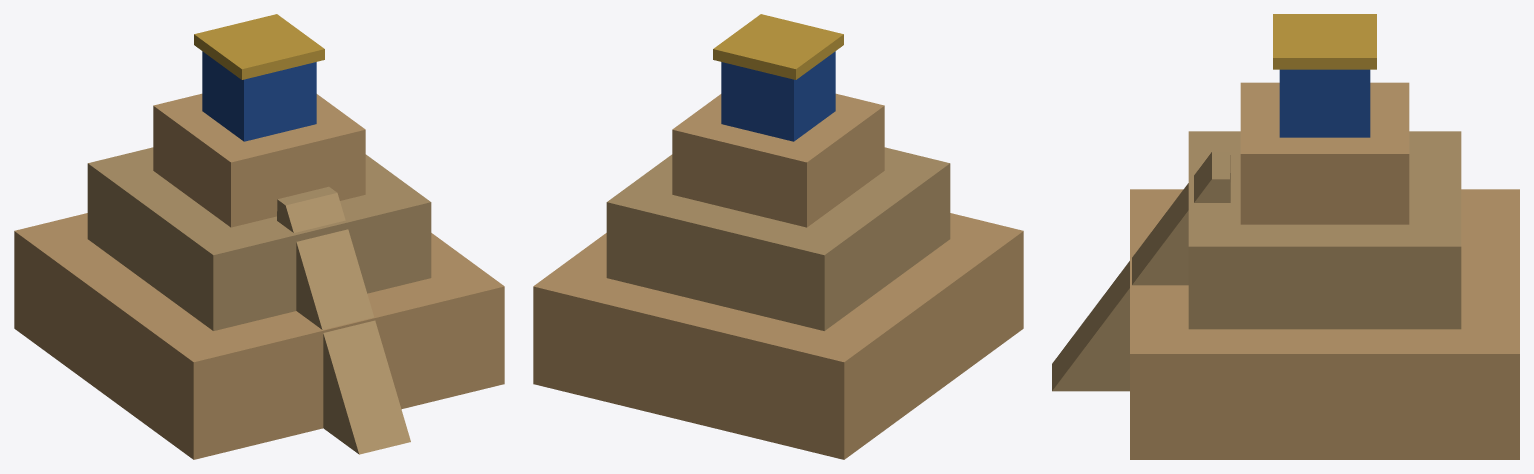
File: minotaur_landmark.glb
3 views of the same model, side by side, from view 1: azimuth 30°, elevation 25°; view 2: azimuth 150°, elevation 25°; view 3: azimuth 270°, elevation 25° (orthographic). The views are drawn at different scales.
Visible parts, largest first — view 1: minotaur_landmark; view 2: minotaur_landmark; view 3: minotaur_landmark.
Part boxes in pixels (x1,y1,x2,y2): minotaur_landmark: [14, 14, 504, 459]; minotaur_landmark: [533, 14, 1023, 459]; minotaur_landmark: [1052, 14, 1519, 459].
Size of the model in its own units: 3 by 2.9 by 3.6.
